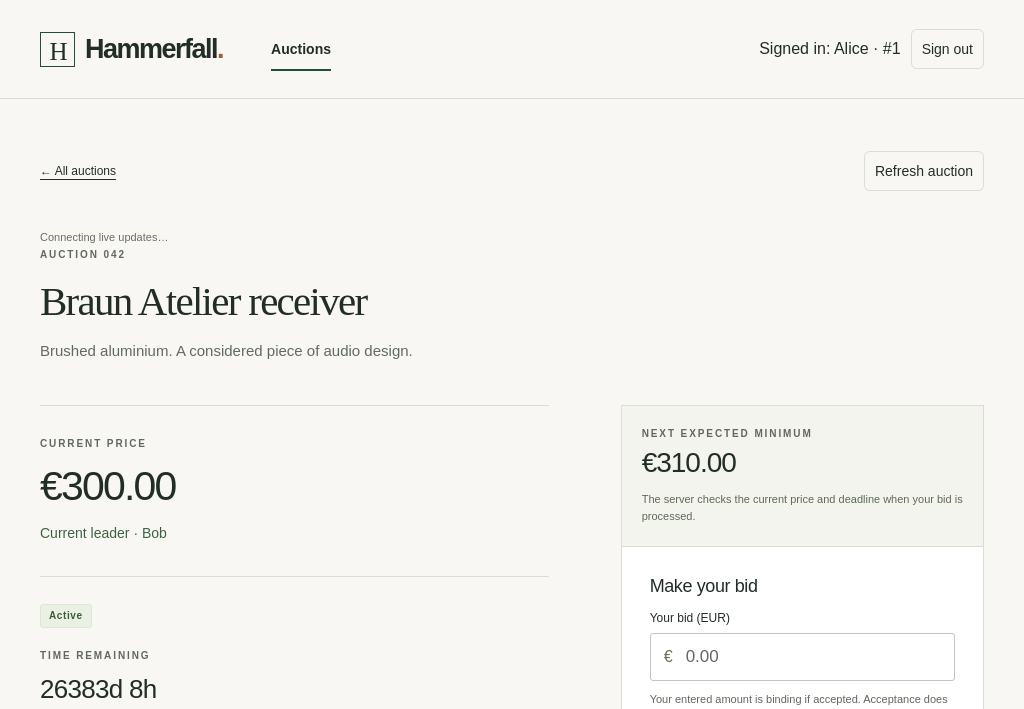
Test: blocks invalid amounts locally before key generation or network mutation
Check: the heading "Braun Atelier receiver" is shown, box [40,278,366,324]
Check: the text "Signed in: Alice · #1" is shown, box [759,37,901,61]
Type "10.999" into the field labelled "Your bid (EUR)" at coordinates (802, 657), box [650,633,955,681]
(page scrolled)
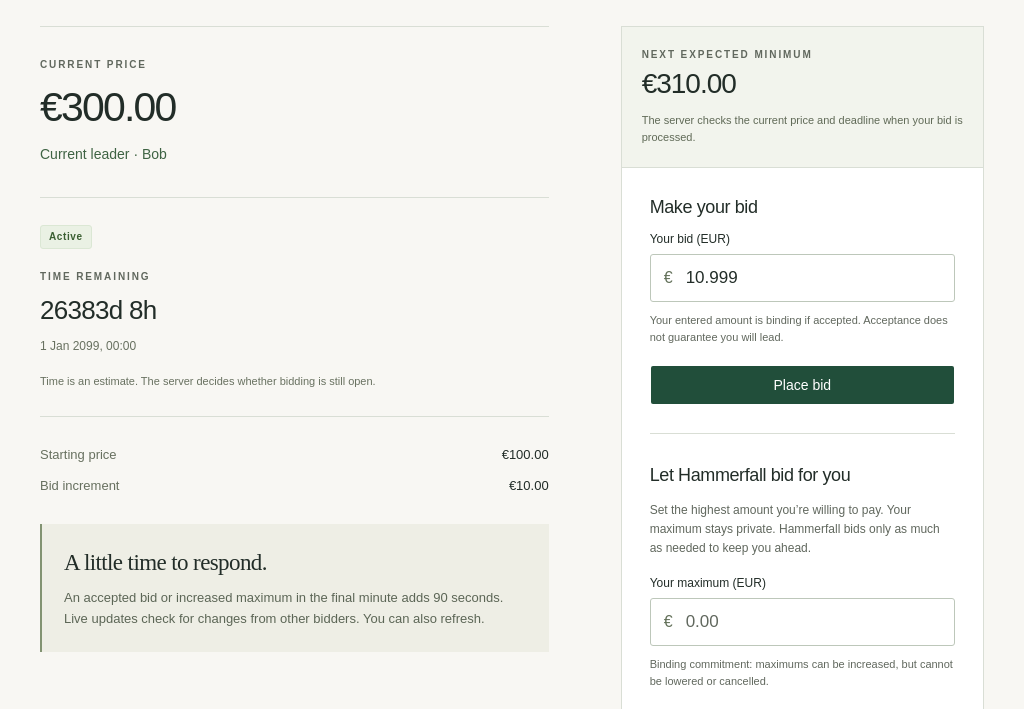
Click the button "Place bid" at coordinates (802, 385), box [650,365,955,405]
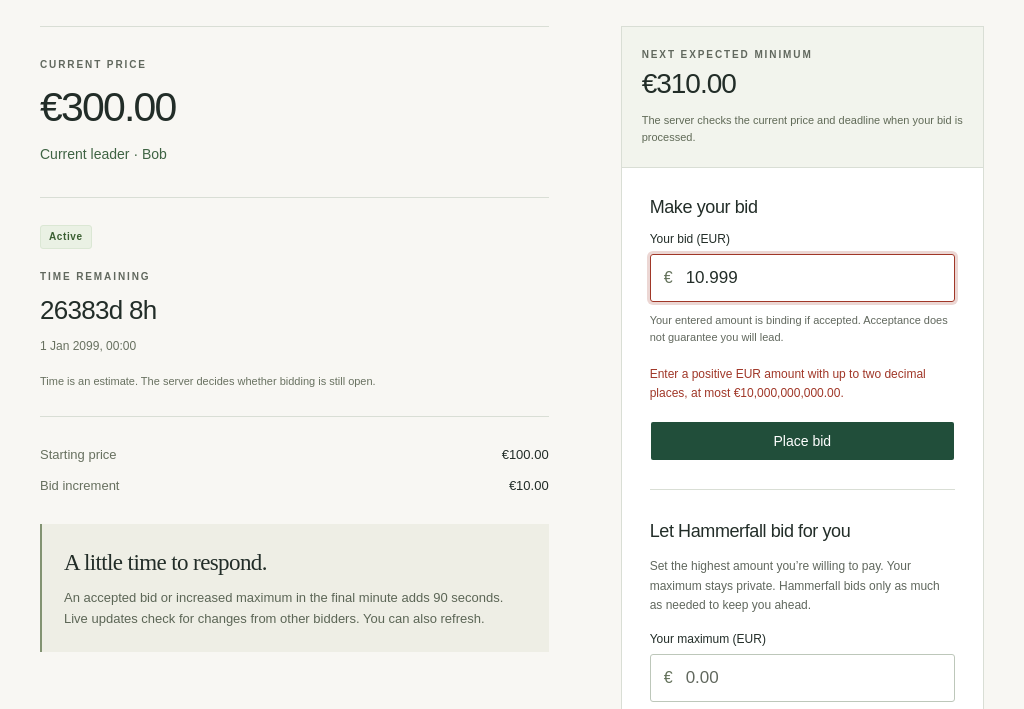
Check: the message shows "two decimal places", box [650,367,926,400]
